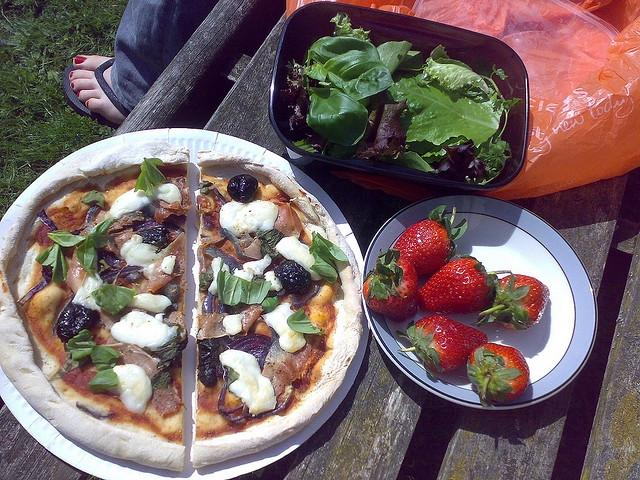lettuce: (386, 70, 504, 148), (306, 83, 368, 146), (358, 90, 410, 161), (65, 329, 120, 394), (324, 50, 394, 101), (423, 44, 490, 95), (216, 260, 272, 306), (428, 139, 490, 179), (306, 36, 381, 68), (308, 230, 348, 284), (284, 58, 328, 100), (278, 79, 310, 131), (90, 280, 137, 314), (134, 158, 168, 198), (377, 40, 412, 76), (330, 12, 370, 42), (286, 309, 324, 335), (76, 235, 96, 277), (476, 146, 499, 178), (80, 190, 104, 208)
strawberry: (396, 314, 488, 378), (417, 255, 511, 316), (392, 205, 468, 275), (472, 272, 550, 330), (362, 248, 418, 322), (468, 342, 530, 406)
